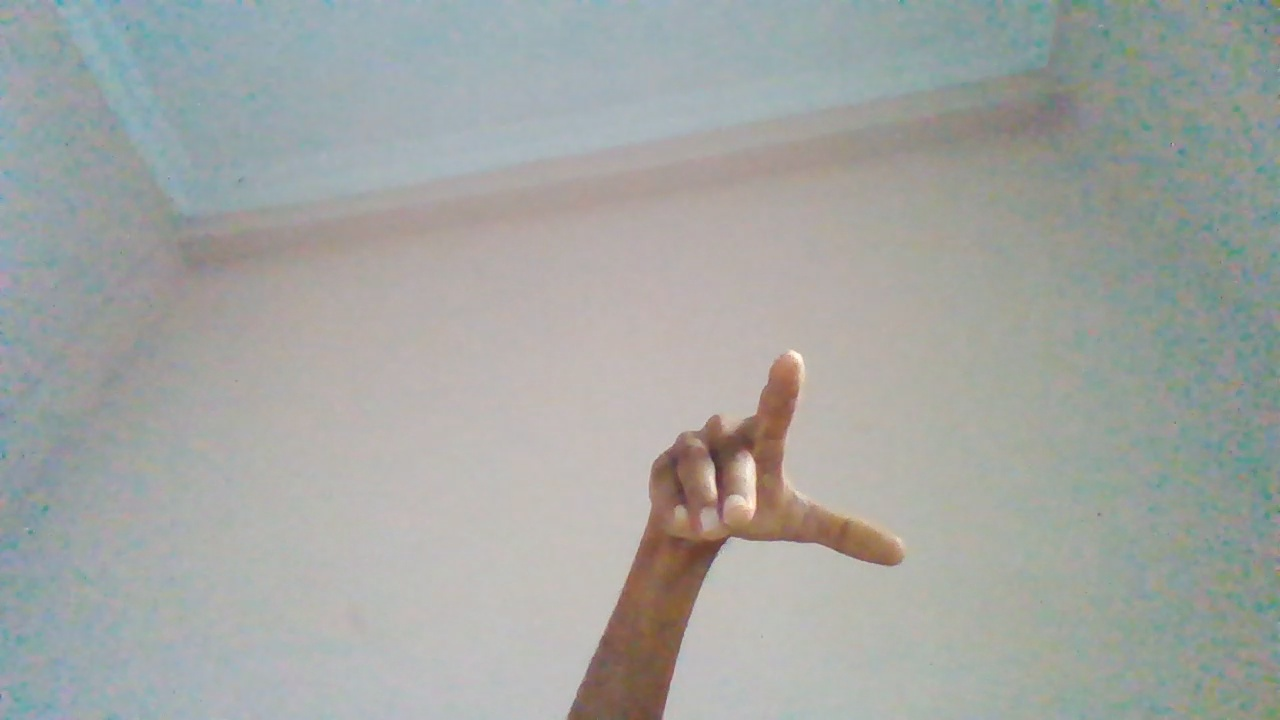ke: (640, 340, 909, 705)
